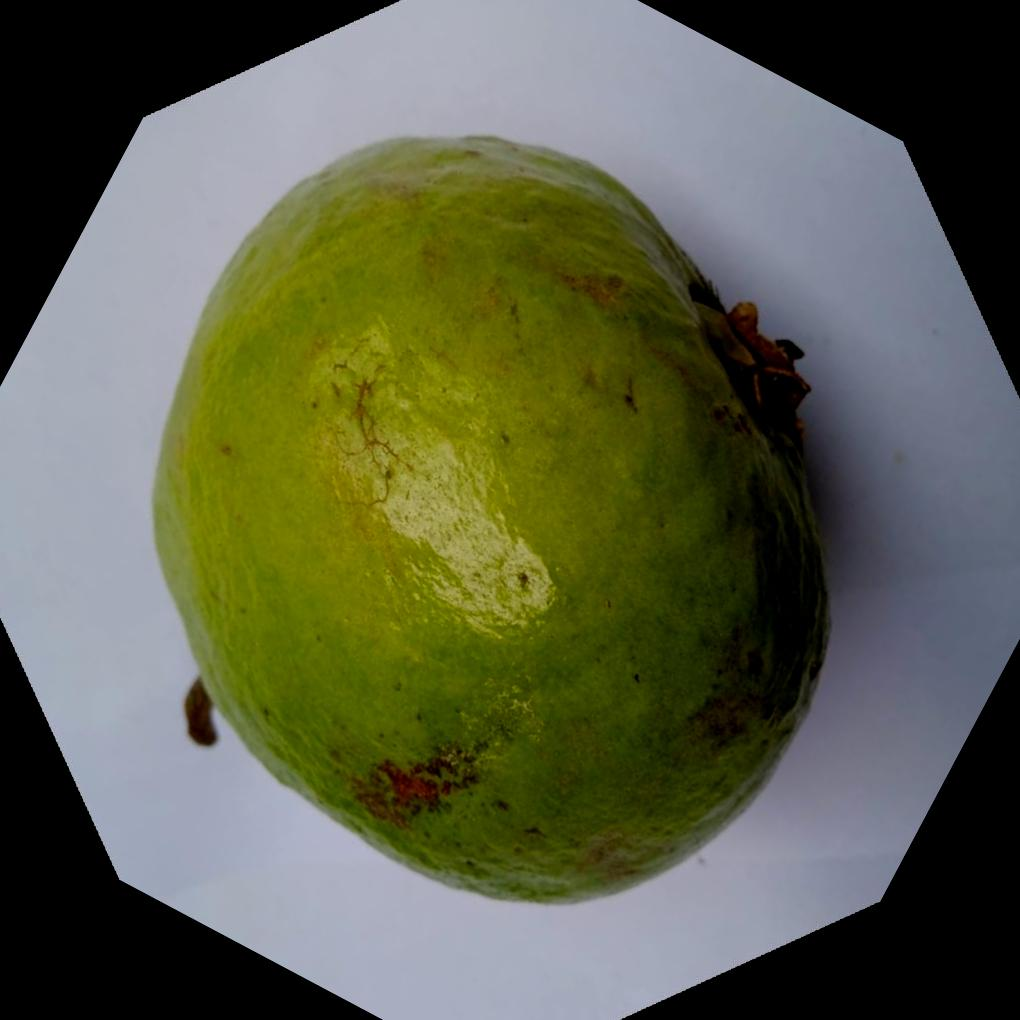FreshGuava: (145, 129, 829, 905)
